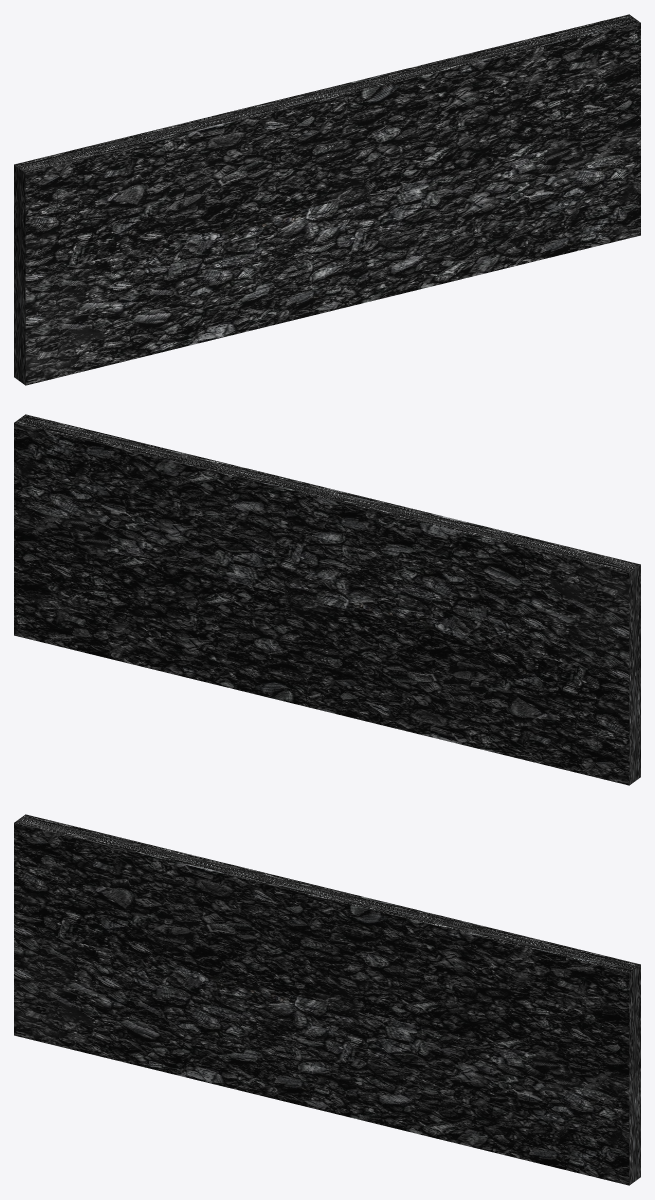
File: Wall_Rock.fbx
3 renders of one model, top to bottom at view 1: azimuth 30°, elevation 25°; view 2: azimuth 150°, elevation 25°; view 3: azimuth 330°, elevation 25°, orthographic.
Parts seen in each view (by area): view 1: pCube3; view 2: pCube3; view 3: pCube3.
Boxes of the visible parts, box(x1,y1,x2,y2) form: pCube3: box(14, 14, 640, 385); pCube3: box(14, 414, 640, 785); pCube3: box(14, 814, 640, 1185).
Bounding box in the file's own units: 95.75 × 31.62 × 3.13.
Materials: 1 (1 with a texture image).
